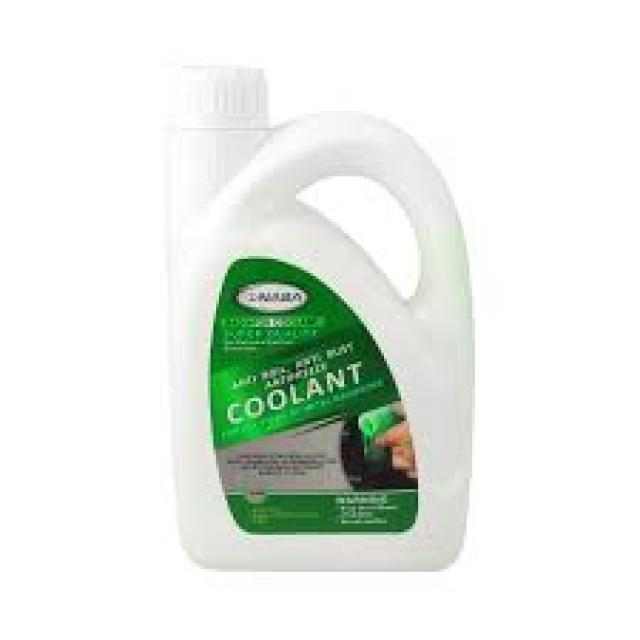coolant: (146, 47, 479, 576)
